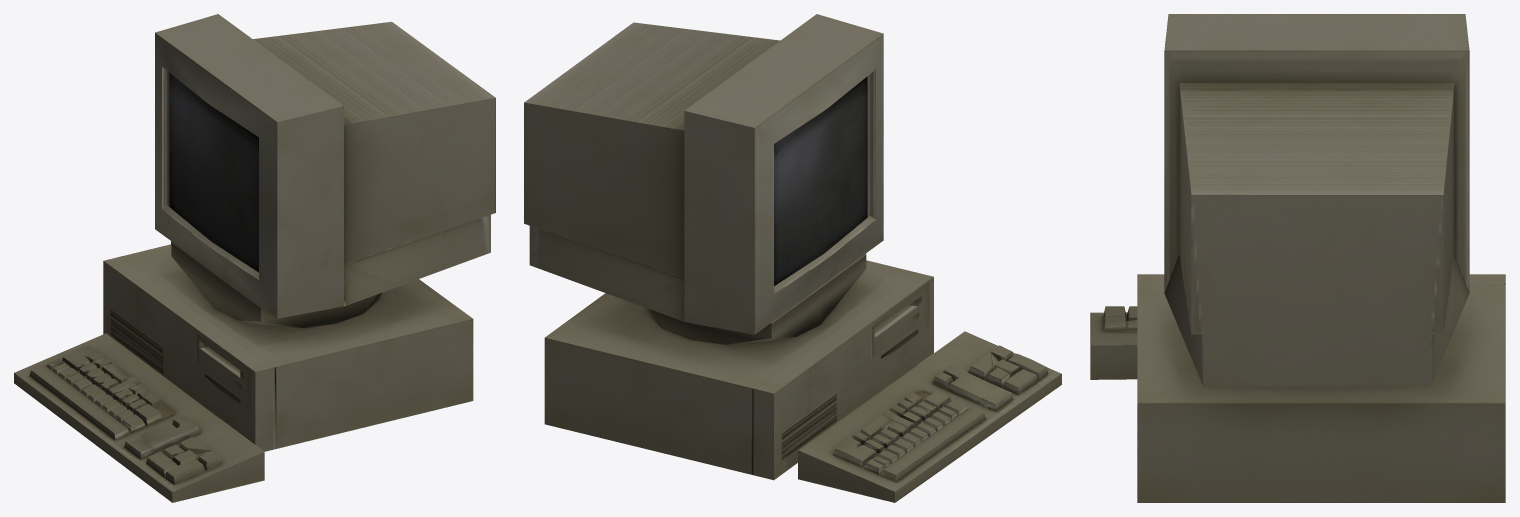
The picture shows the model from 3 angles, left to right: view 1: azimuth 30°, elevation 25°; view 2: azimuth 150°, elevation 25°; view 3: azimuth 270°, elevation 25°; orthographic projection. The views are drawn at different scales.
Parts seen in each view (by area): view 1: E_PC; view 2: E_PC; view 3: E_PC.
Part boxes in pixels (bbox=[...]): E_PC: bbox=[14, 14, 495, 502]; E_PC: bbox=[524, 14, 1061, 502]; E_PC: bbox=[1090, 14, 1505, 502].
Size of the model in its own units: 74.42 by 63.35 by 60.44.
Materials: 1 (1 with a texture image).
